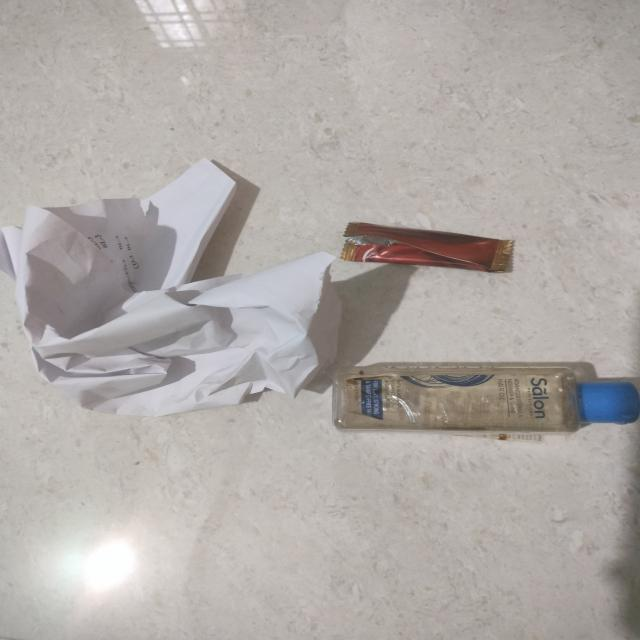dry: (8, 153, 324, 443), (340, 362, 636, 444), (344, 222, 552, 287)
